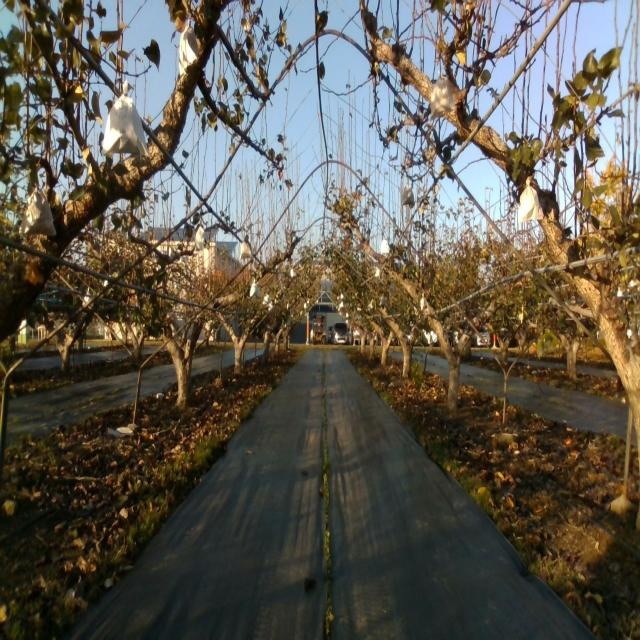pearbags: (100, 78, 151, 160), (18, 188, 56, 236), (429, 68, 456, 122), (519, 175, 545, 227), (180, 20, 200, 79), (401, 183, 415, 206), (239, 238, 253, 261)
